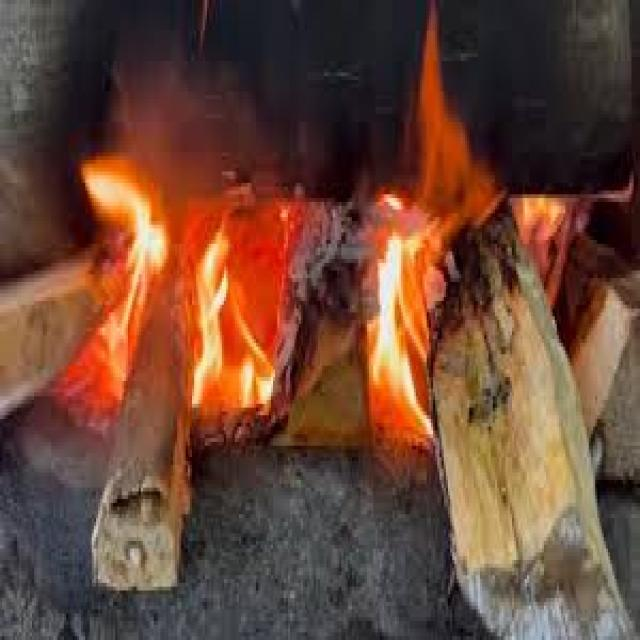fire: (51, 148, 304, 439), (367, 0, 507, 445), (510, 193, 570, 304)
